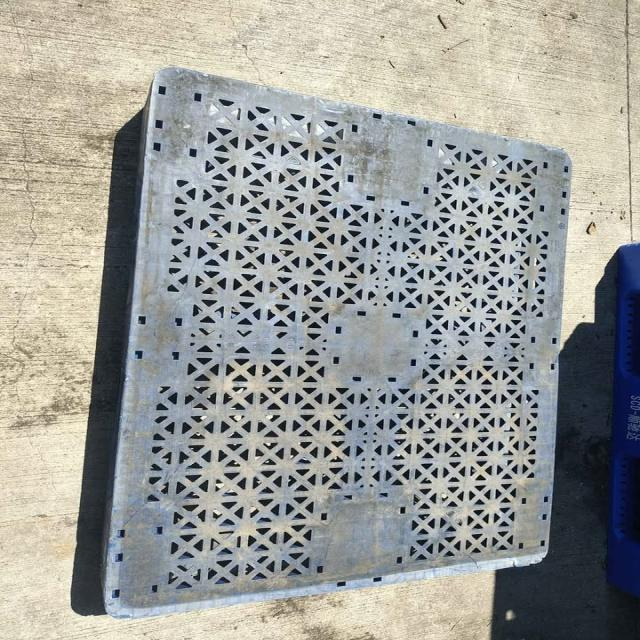non-igps: (95, 64, 577, 624)
